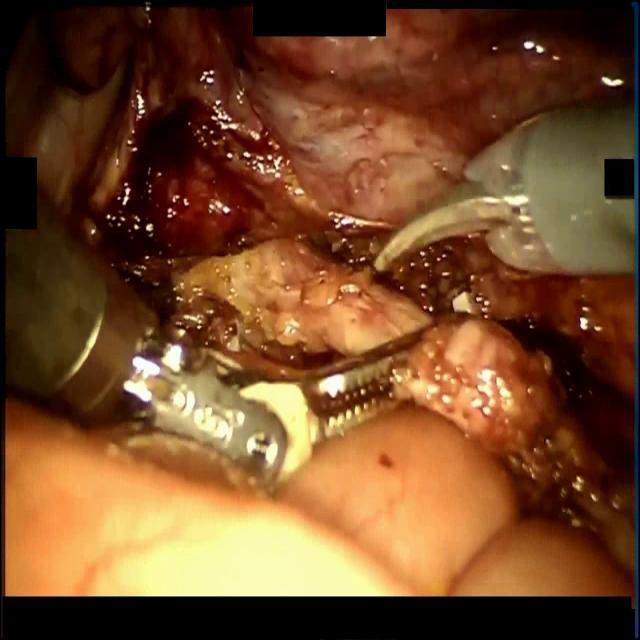surgical-area: (2, 0, 634, 597)
surgical-tool: (5, 188, 404, 482), (464, 94, 634, 276)
